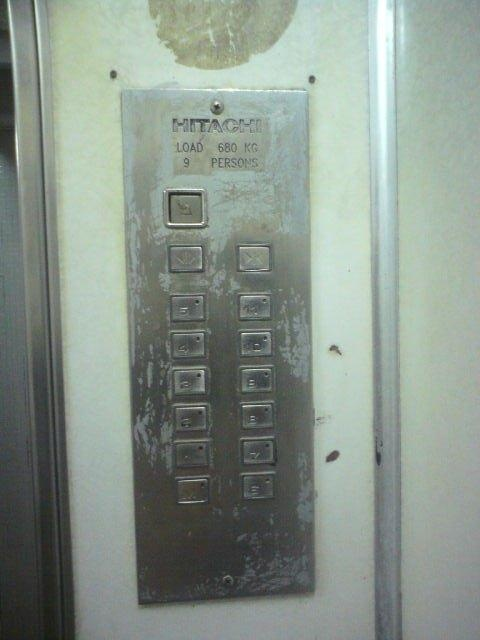10: (236, 326, 274, 358)
11: (236, 290, 274, 322)
2: (169, 402, 211, 435)
3: (168, 365, 210, 398)
4: (167, 328, 209, 361)
5: (166, 291, 208, 324)
6: (239, 470, 277, 502)
7: (239, 435, 277, 467)
8: (238, 399, 276, 431)
9: (238, 363, 276, 395)
blur: (161, 186, 209, 228), (170, 437, 212, 471), (172, 474, 211, 506)
close: (233, 241, 275, 274)
open: (165, 242, 207, 275)
